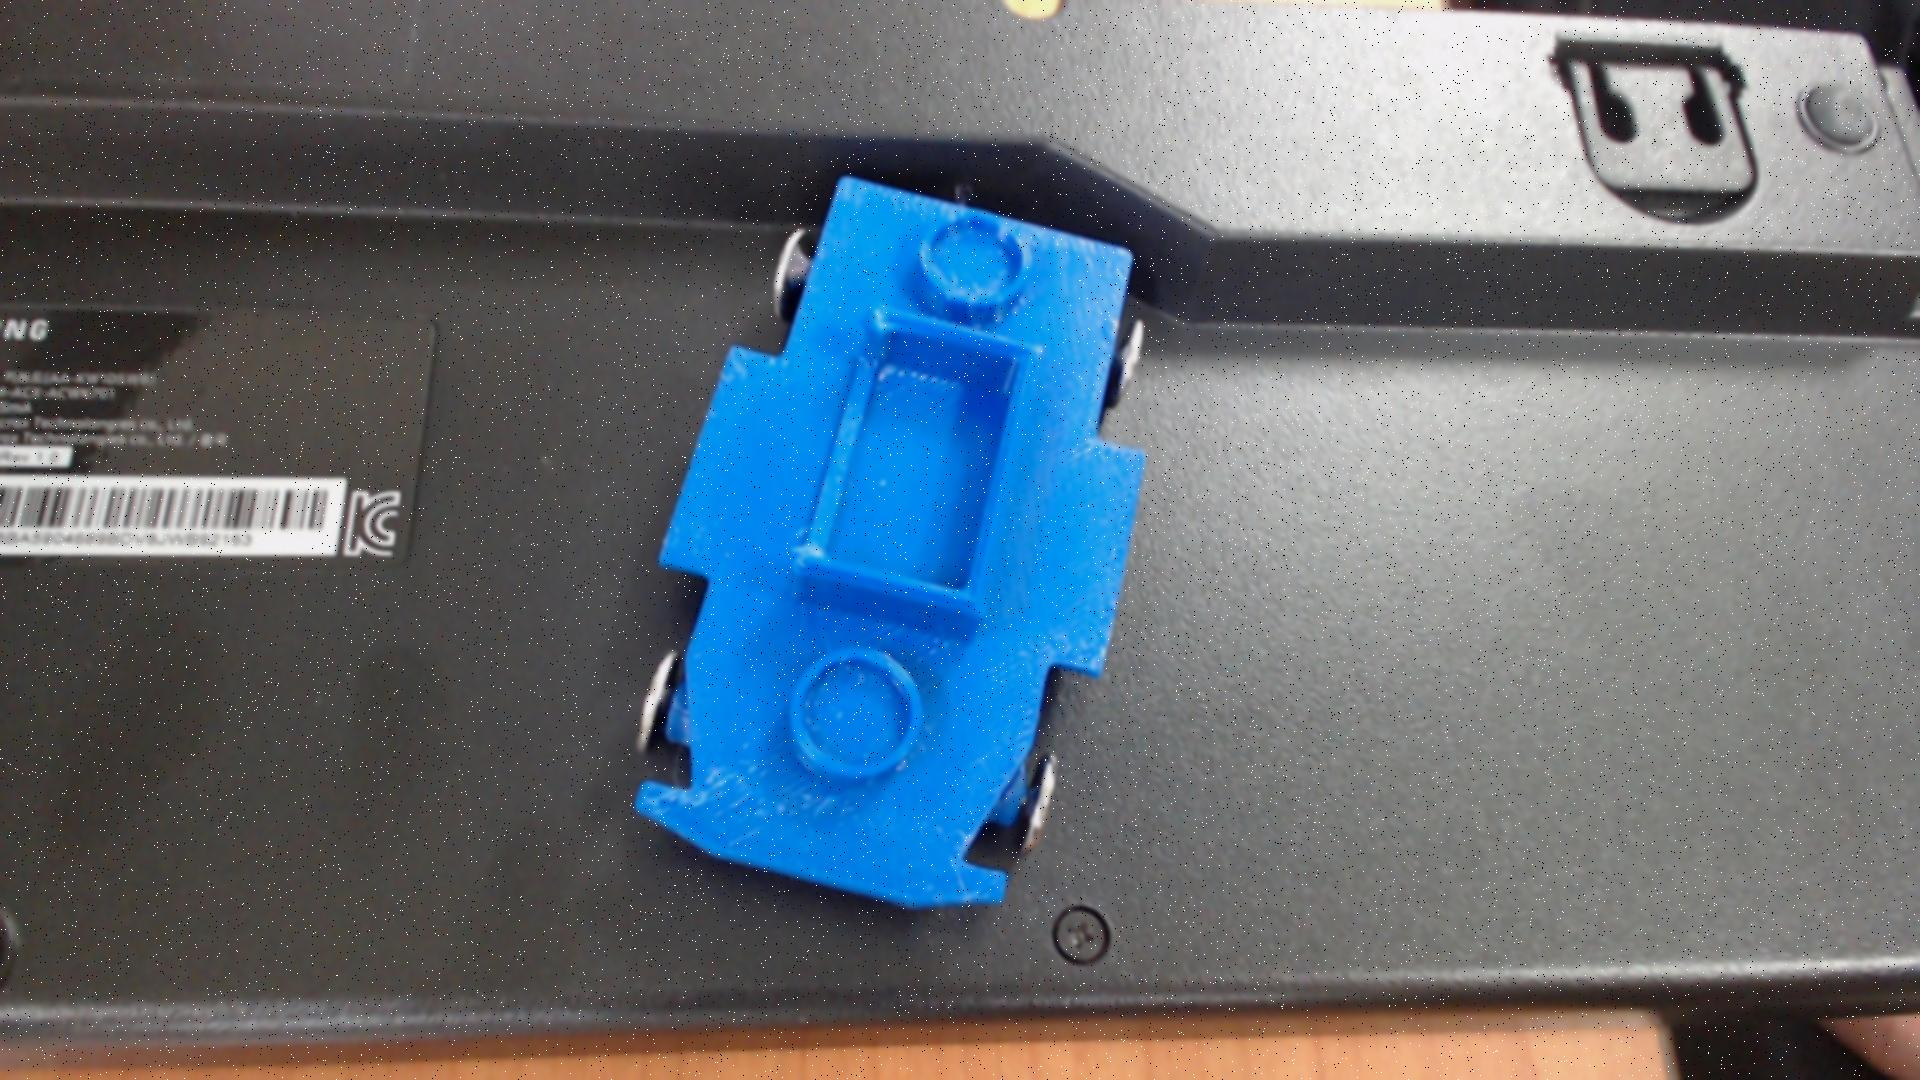lower_ng: (774, 294, 1056, 650)
